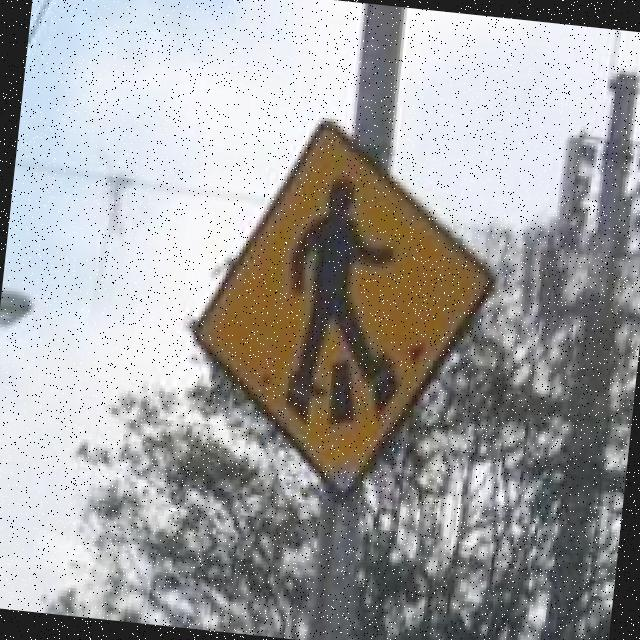Przejscie dla pieszych: (179, 109, 510, 499)
